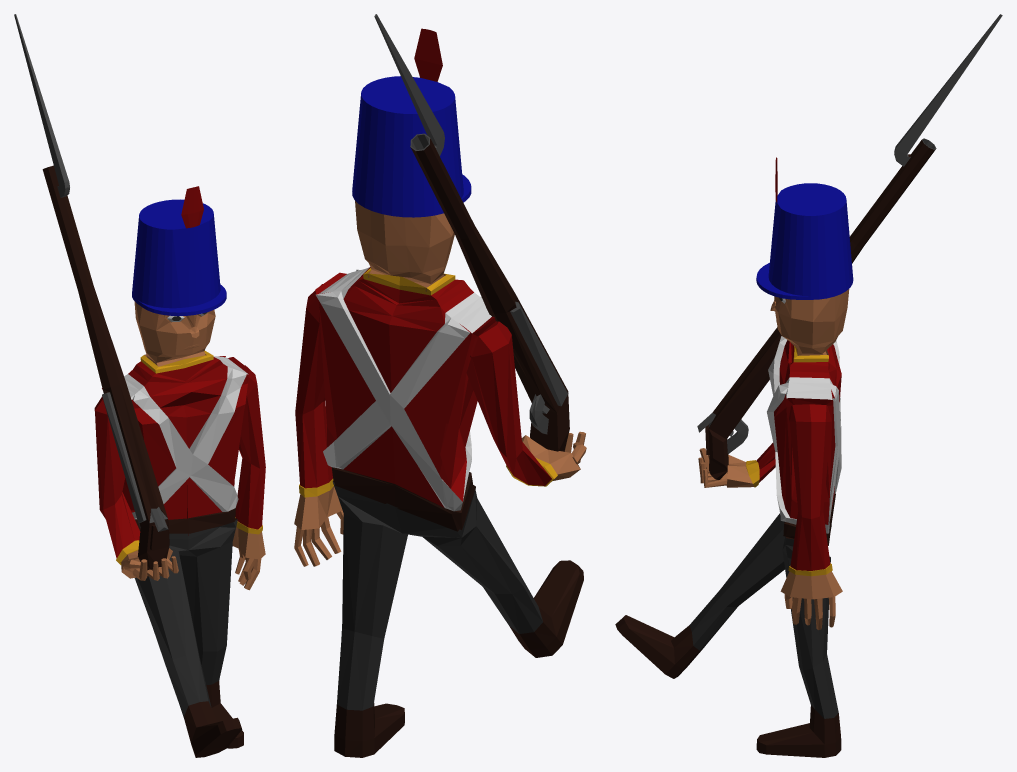
Rendered from Infantry_000004.obj.
3 views of the same model, side by side, from view 1: azimuth 30°, elevation 25°; view 2: azimuth 150°, elevation 25°; view 3: azimuth 270°, elevation 25° (orthographic). The views are drawn at different scales.
Visible parts, largest first — view 1: {Man}_Circle, {Mesket}_Cube.001; view 2: {Man}_Circle, {Mesket}_Cube.001; view 3: {Man}_Circle, {Mesket}_Cube.001.
Boxes of the visible parts, x1,y1,x2,y2 form: {Man}_Circle: [94, 186, 265, 757]; {Mesket}_Cube.001: [14, 14, 169, 570]; {Man}_Circle: [294, 28, 586, 757]; {Mesket}_Cube.001: [374, 14, 569, 451]; {Man}_Circle: [615, 157, 853, 757]; {Mesket}_Cube.001: [697, 14, 1002, 479].
Bounding box in the file's own units: 5.63 × 19.65 × 10.06.
